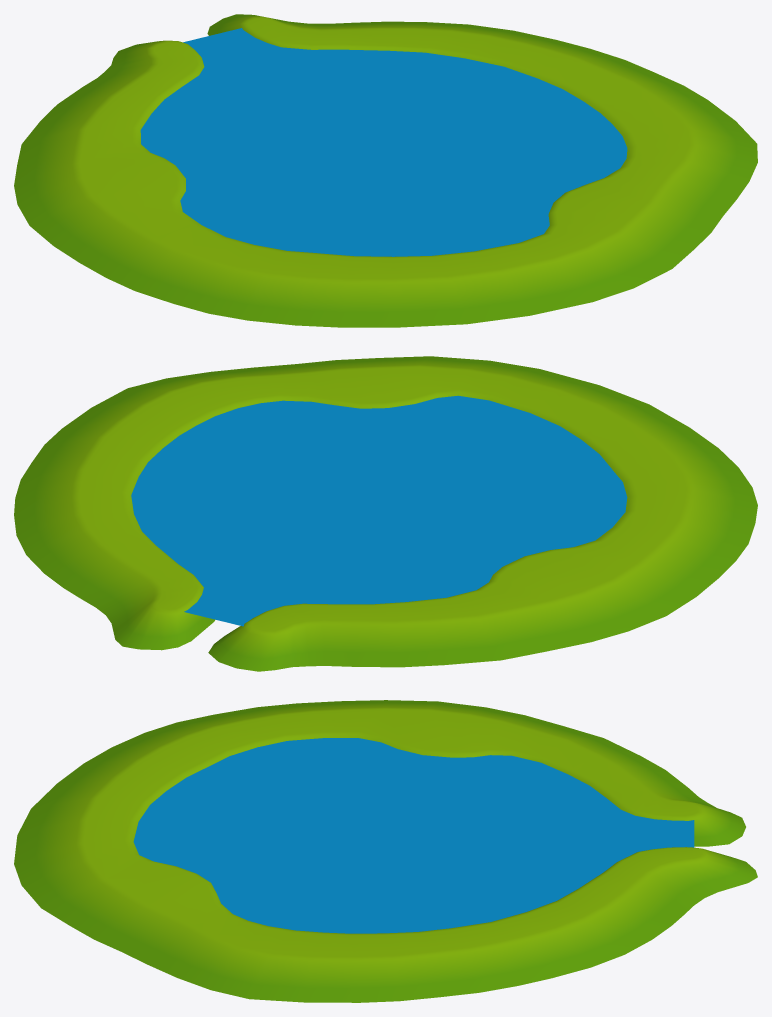
The model's file is Lake01.fbx.
3 renders of one model, top to bottom at view 1: azimuth 30°, elevation 25°; view 2: azimuth 150°, elevation 25°; view 3: azimuth 270°, elevation 25°, orthographic. The views are drawn at different scales.
Visible parts, largest first — view 1: LOD0; view 2: LOD0; view 3: LOD0.
Boxes of the visible parts, box(x1,y1,x2,y2) form: LOD0: box(14, 14, 757, 327); LOD0: box(14, 356, 757, 671); LOD0: box(14, 700, 757, 1002).
Size of what is drawn, in the model's own units: 4012 by 4167 by 114.
